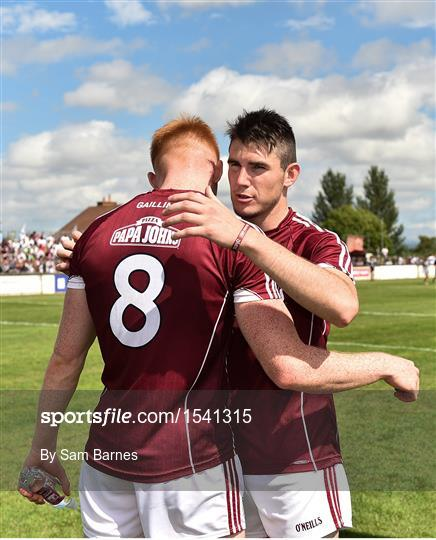player: (199, 99, 366, 510), (88, 102, 247, 531)
